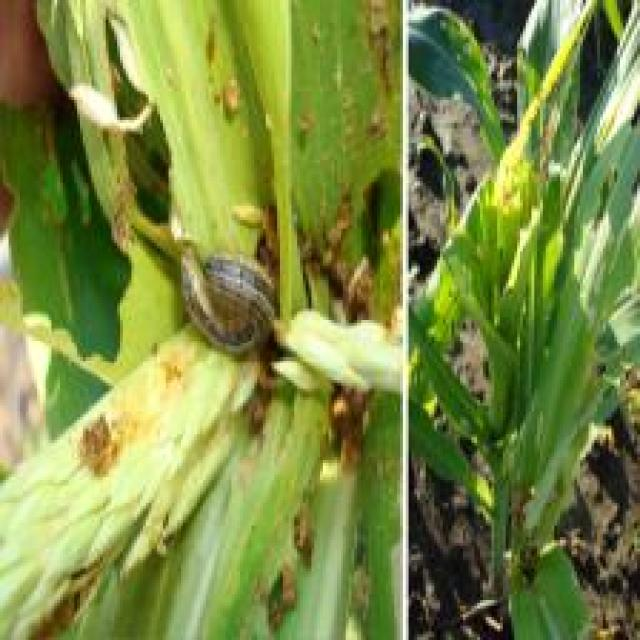Plaga: (175, 232, 281, 384)
